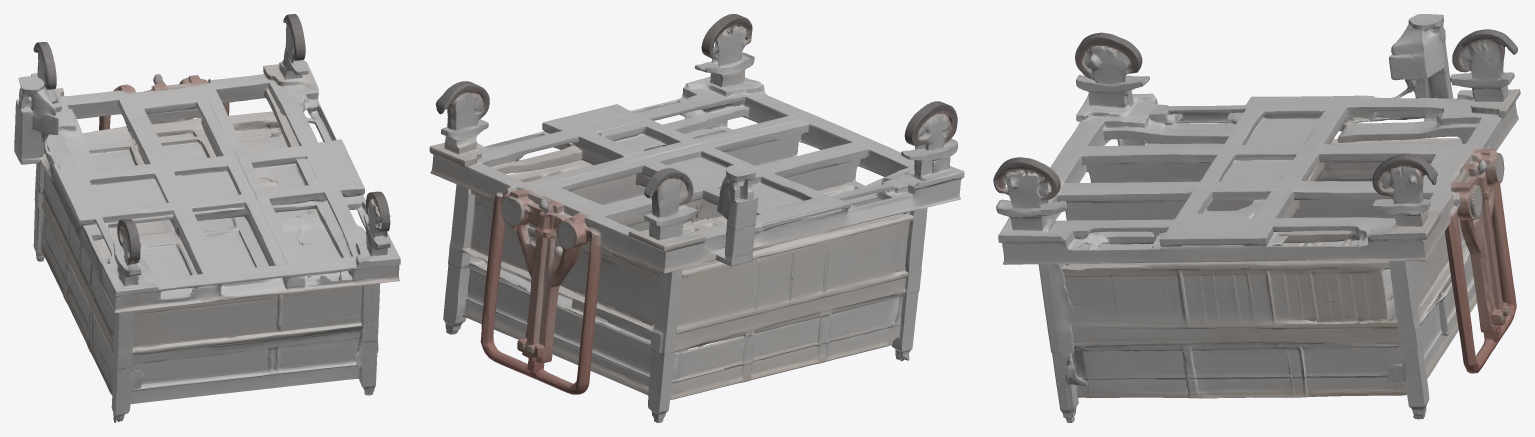
File: cart-multi.glb
The picture shows the model from 3 angles, left to right: view 1: azimuth 30°, elevation 25°; view 2: azimuth 150°, elevation 25°; view 3: azimuth 270°, elevation 25°; orthographic projection. The views are drawn at different scales.
Parts seen in each view (by area): view 1: geometry_0; view 2: geometry_0; view 3: geometry_0.
Boxes of the visible parts, left/top/right/bottom form: geometry_0: left=14, top=14, right=400, bottom=422; geometry_0: left=429, top=14, right=964, bottom=422; geometry_0: left=993, top=14, right=1520, bottom=422.
Size of the model in its own units: 2.47 by 1.82 by 2.85.
